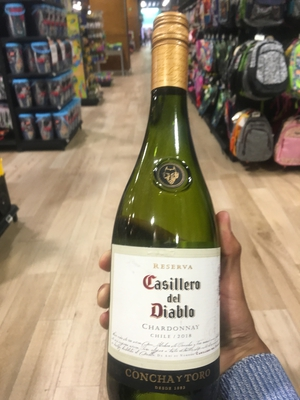casillero del diablo chardonnay: (93, 18, 236, 395)
